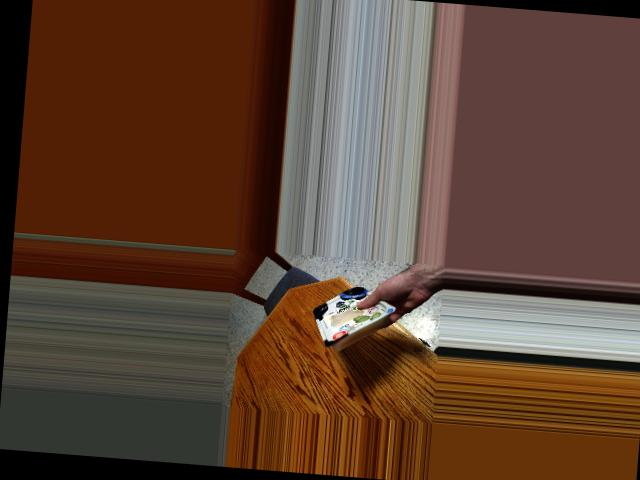cheese: (303, 281, 391, 367)
